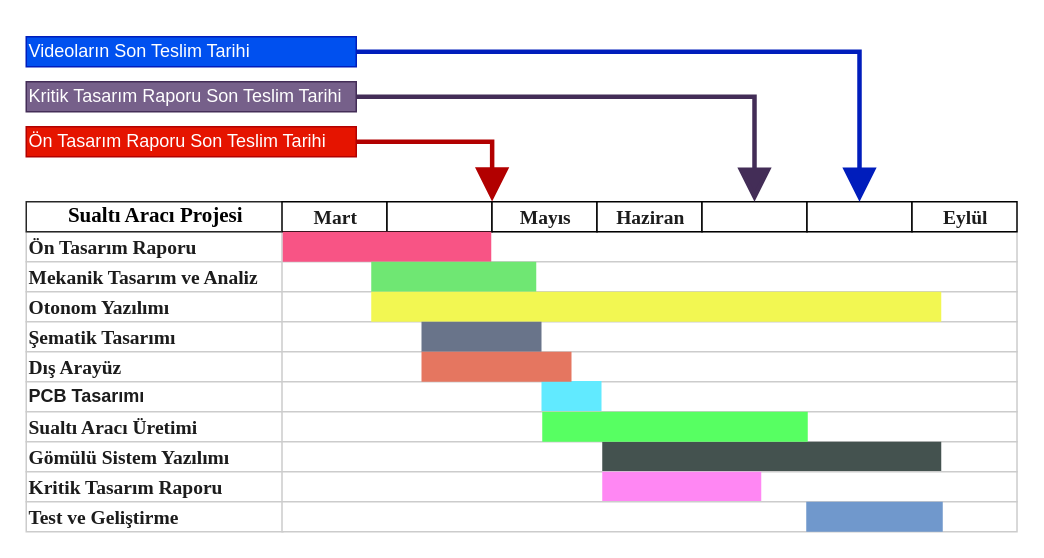
Some shapes in this 1044 by 558 pixel diagram are drawn without their labels. The shapes that lost their labels are listed below. From the top down, each one's box as (x1, y1, x2, y2) in pixels, then its label:
(386, 200, 492, 232): Nisan
(700, 200, 807, 232): Temmuz
(806, 200, 912, 232): Ağustos
